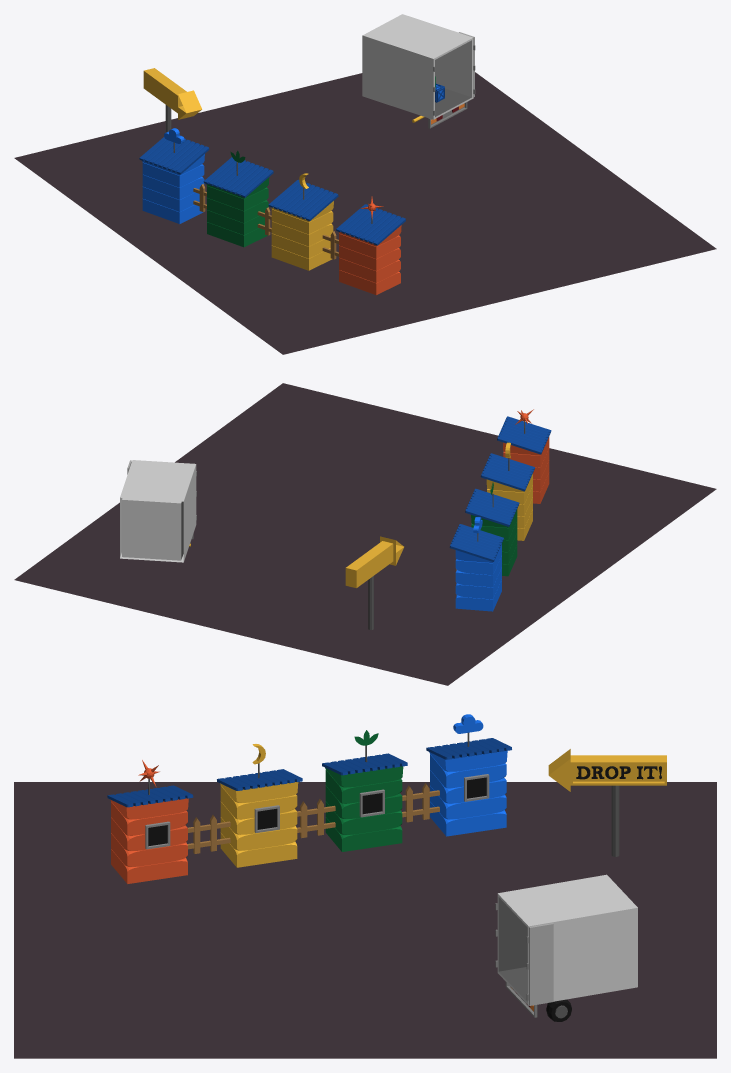
The model's file is minigame__delivery.fbx.
3 renders of one model, top to bottom at view 1: azimuth 30°, elevation 25°; view 2: azimuth 150°, elevation 25°; view 3: azimuth 270°, elevation 25°, orthographic. The views are drawn at different scales.
Parts seen in each view (by area): view 1: place; view 2: place; view 3: place.
Part boxes in pixels (x1=…): place: x1=14, y1=14, x2=716, y2=354; place: x1=14, y1=383, x2=716, y2=685; place: x1=14, y1=714, x2=716, y2=1058.
Bounding box in the file's own units: 5107 × 960 × 5484.
